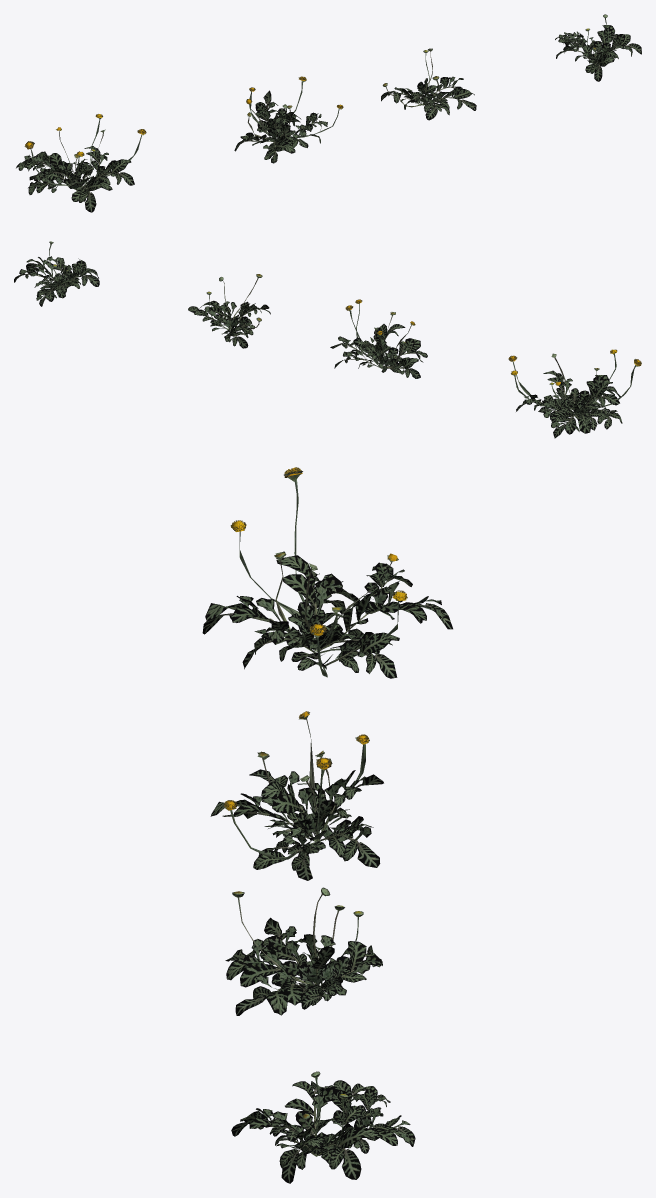
The model's file is flower_stinkkruid.glb.
The picture shows the model from 3 angles, top to bottom: view 1: azimuth 30°, elevation 25°; view 2: azimuth 150°, elevation 25°; view 3: azimuth 270°, elevation 25°; orthographic projection. The views are drawn at different scales.
Visible parts, largest first — view 1: flower_stinkkruid_a, flower_stinkkruid_b, flower_stinkkruid_d, flower_stinkkruid_c; view 2: flower_stinkkruid_a, flower_stinkkruid_b, flower_stinkkruid_d, flower_stinkkruid_c; view 3: flower_stinkkruid_a, flower_stinkkruid_b, flower_stinkkruid_c, flower_stinkkruid_d.
Boxes of the visible parts, bbox=[...] form: flower_stinkkruid_a: bbox=[16, 114, 146, 212]; flower_stinkkruid_b: bbox=[234, 76, 343, 163]; flower_stinkkruid_d: bbox=[555, 14, 641, 81]; flower_stinkkruid_c: bbox=[381, 48, 476, 120]; flower_stinkkruid_a: bbox=[508, 349, 641, 438]; flower_stinkkruid_b: bbox=[330, 299, 427, 378]; flower_stinkkruid_d: bbox=[14, 241, 99, 306]; flower_stinkkruid_c: bbox=[188, 274, 270, 348]; flower_stinkkruid_a: bbox=[202, 467, 452, 678]; flower_stinkkruid_b: bbox=[210, 711, 383, 880]; flower_stinkkruid_c: bbox=[225, 887, 382, 1015]; flower_stinkkruid_d: bbox=[231, 1071, 415, 1183].
Bounding box in the file's own units: 1.71 × 0.1779 × 0.301.
Materials: 1 (1 with a texture image).
